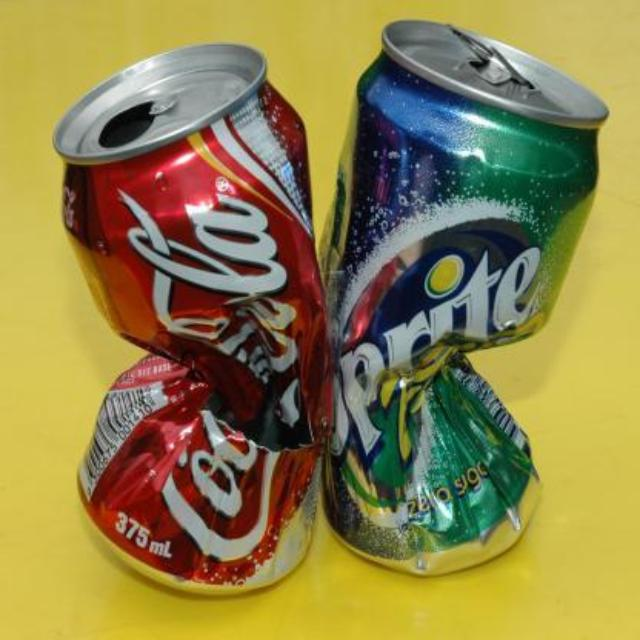metal: (322, 20, 605, 572), (52, 43, 323, 589)
